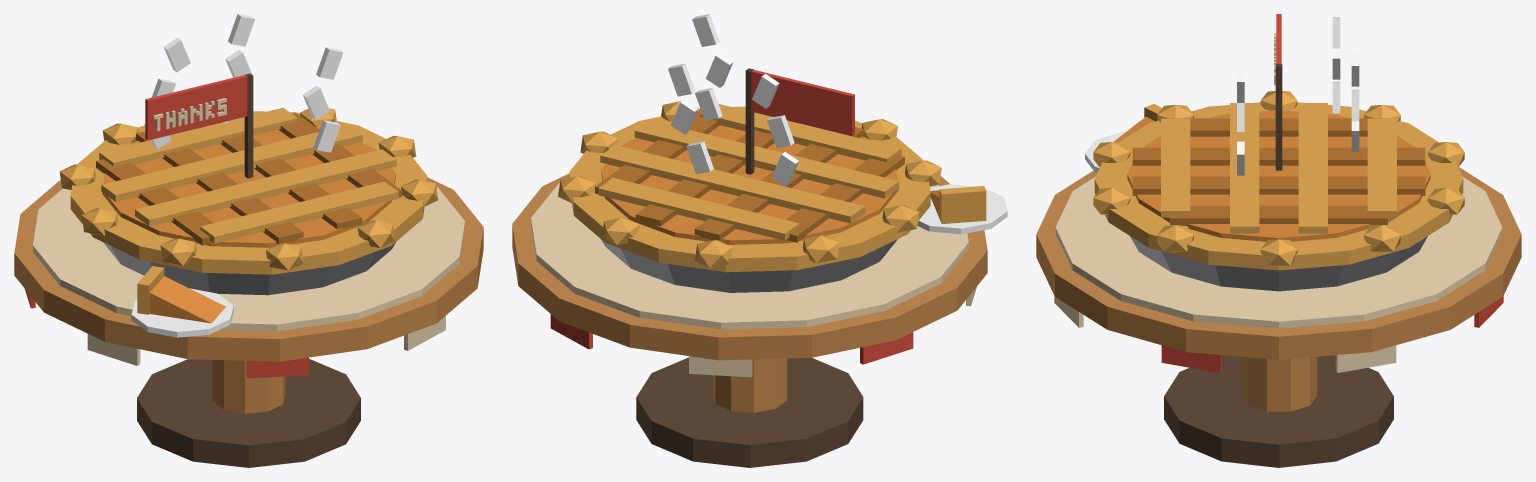
File: CatCafe_Decor_FeastPie.glb
3 views of the same model, side by side, from view 1: azimuth 30°, elevation 25°; view 2: azimuth 150°, elevation 25°; view 3: azimuth 270°, elevation 25° (orthographic). The views are drawn at different scales.
Parts seen in each view (by area): view 1: CatCafe_Decor_FeastPie, CatCafe_Decor_FeastPie_Glow; view 2: CatCafe_Decor_FeastPie, CatCafe_Decor_FeastPie_Glow; view 3: CatCafe_Decor_FeastPie, CatCafe_Decor_FeastPie_Glow.
Part boxes in pixels (left/top/right/bottom): CatCafe_Decor_FeastPie: left=14, top=73, right=483, bottom=467; CatCafe_Decor_FeastPie_Glow: left=144, top=14, right=343, bottom=152; CatCafe_Decor_FeastPie: left=512, top=68, right=1007, bottom=467; CatCafe_Decor_FeastPie_Glow: left=668, top=14, right=798, bottom=186; CatCafe_Decor_FeastPie: left=1036, top=14, right=1521, bottom=467; CatCafe_Decor_FeastPie_Glow: left=1237, top=17, right=1359, bottom=175.
Bounding box in the file's own units: 3.8 × 3.29 × 3.8.
1 material, 1 textured.
